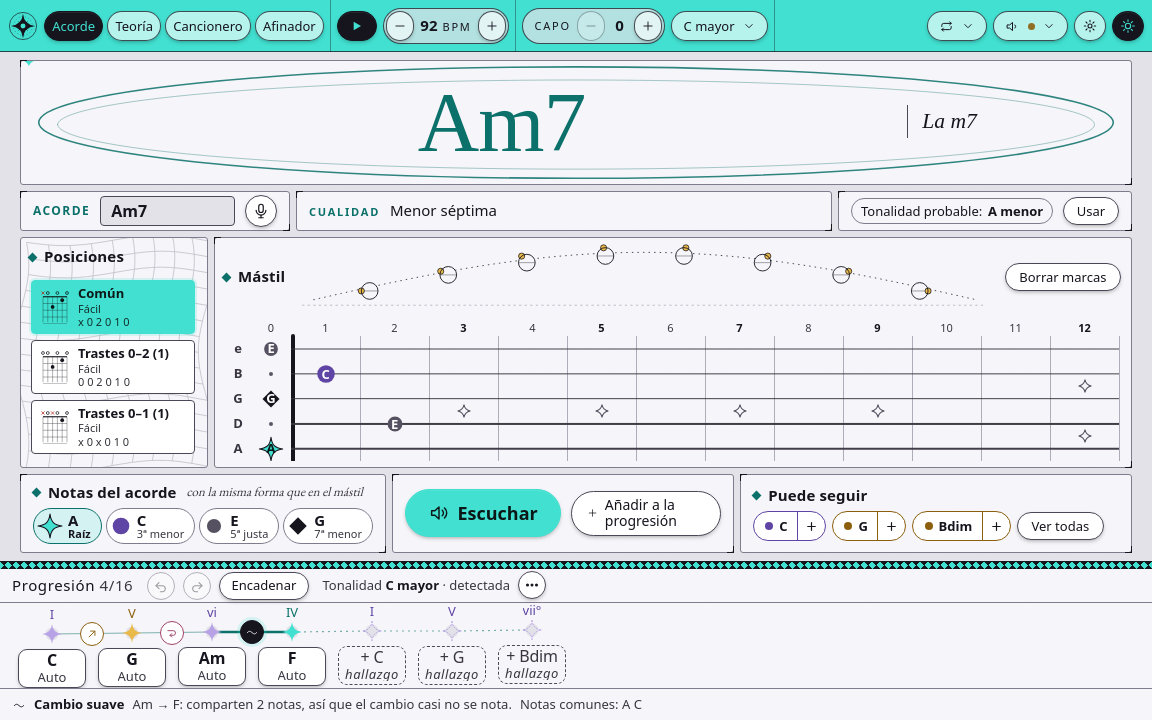
Scenario: undo and redo › walks back and forth through progression edits
The width and height of the screenshot is (1152, 720).
expect the button named "Deshacer" is disabled: met, box [147, 572, 175, 600]
Click the button "IV F Auto" at (292, 647), box [258, 605, 326, 688]
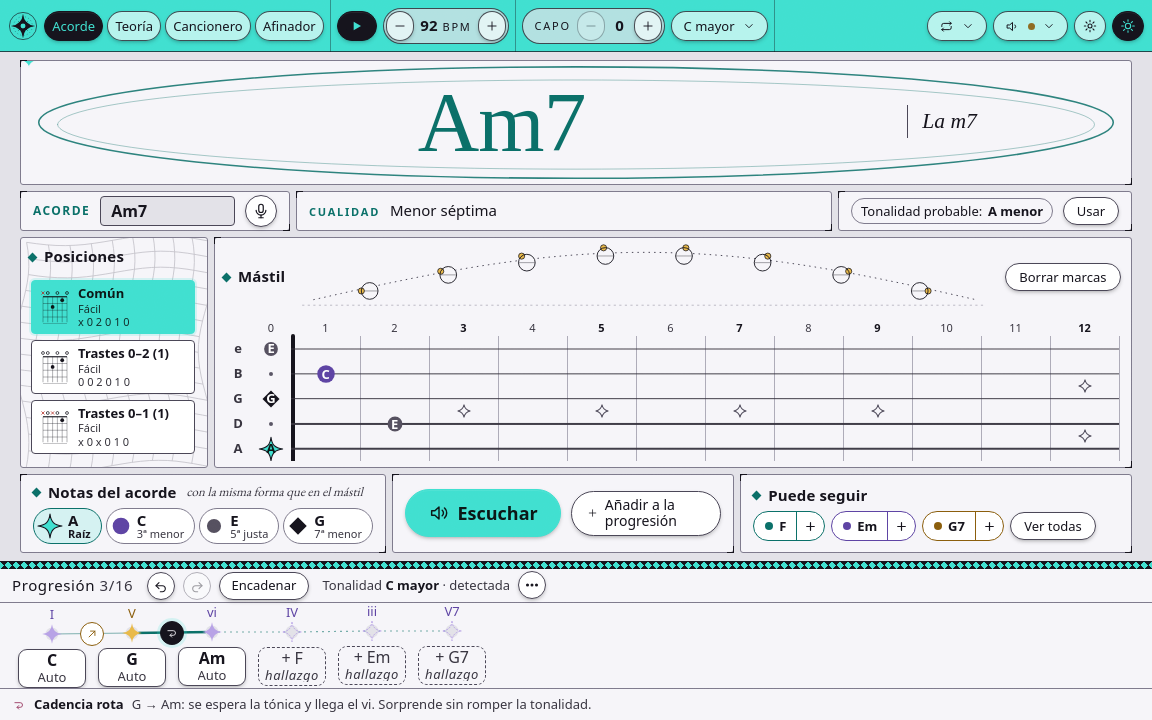
Click the button "I C Auto" at (52, 648), box [18, 607, 86, 688]
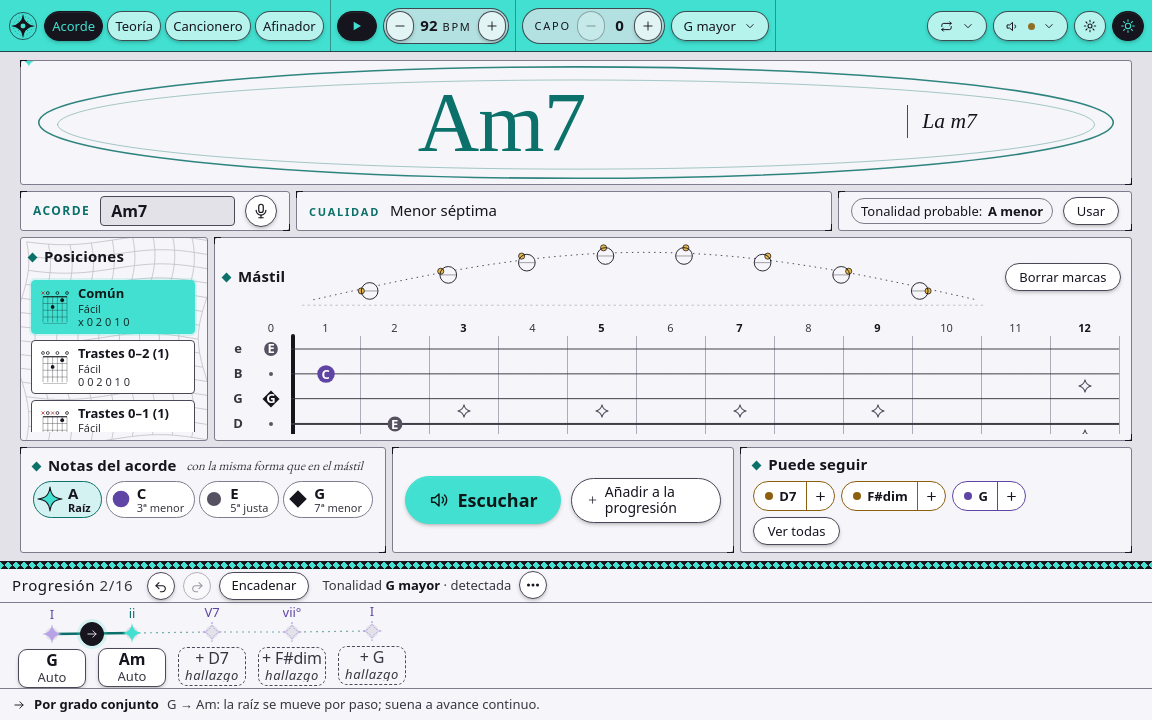
Click the button named "Deshacer" at (161, 586), box [147, 572, 175, 600]
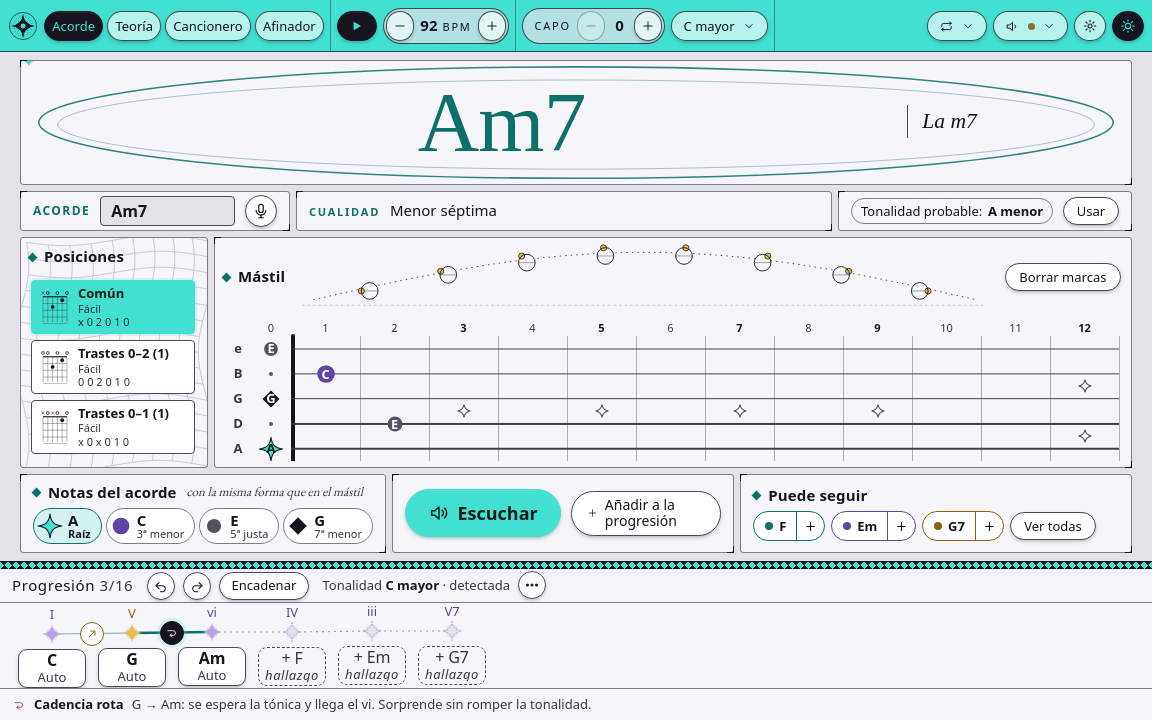
Press z
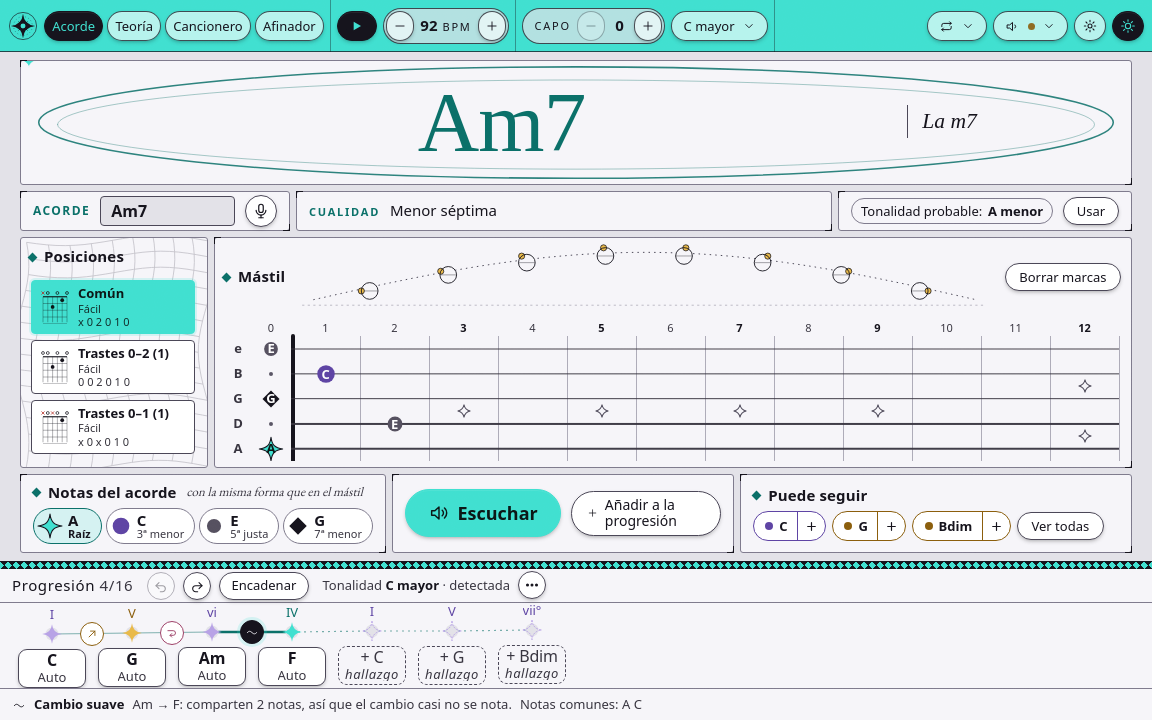
Press z
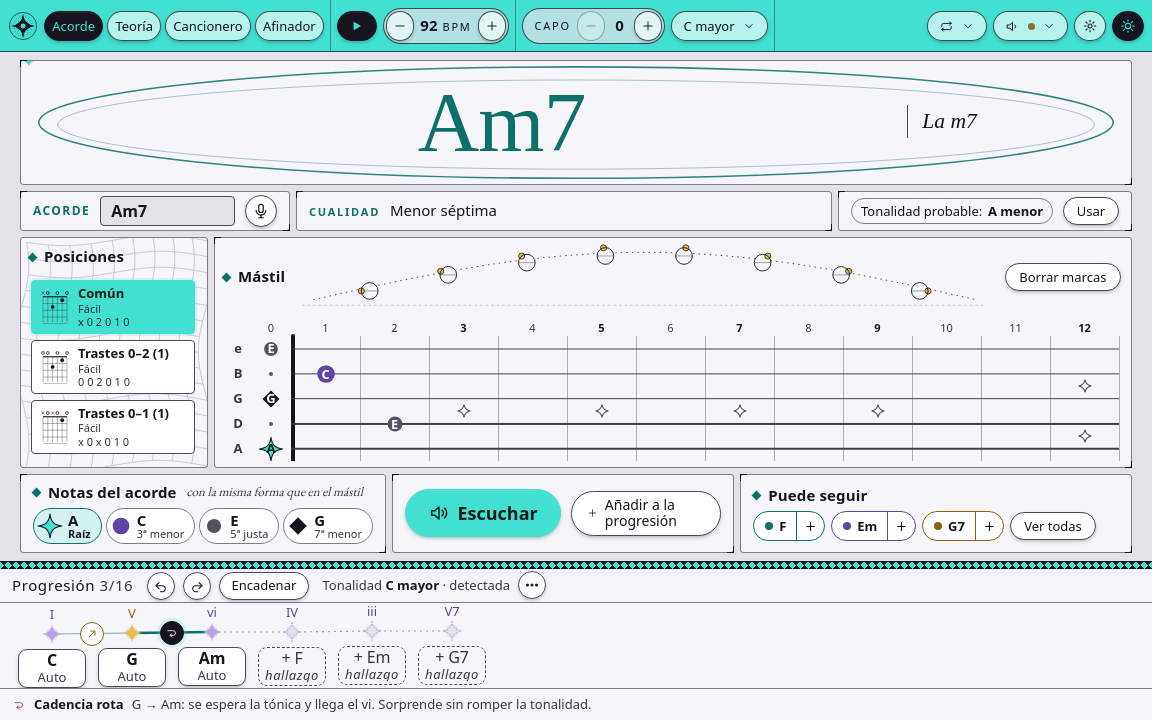
Press y
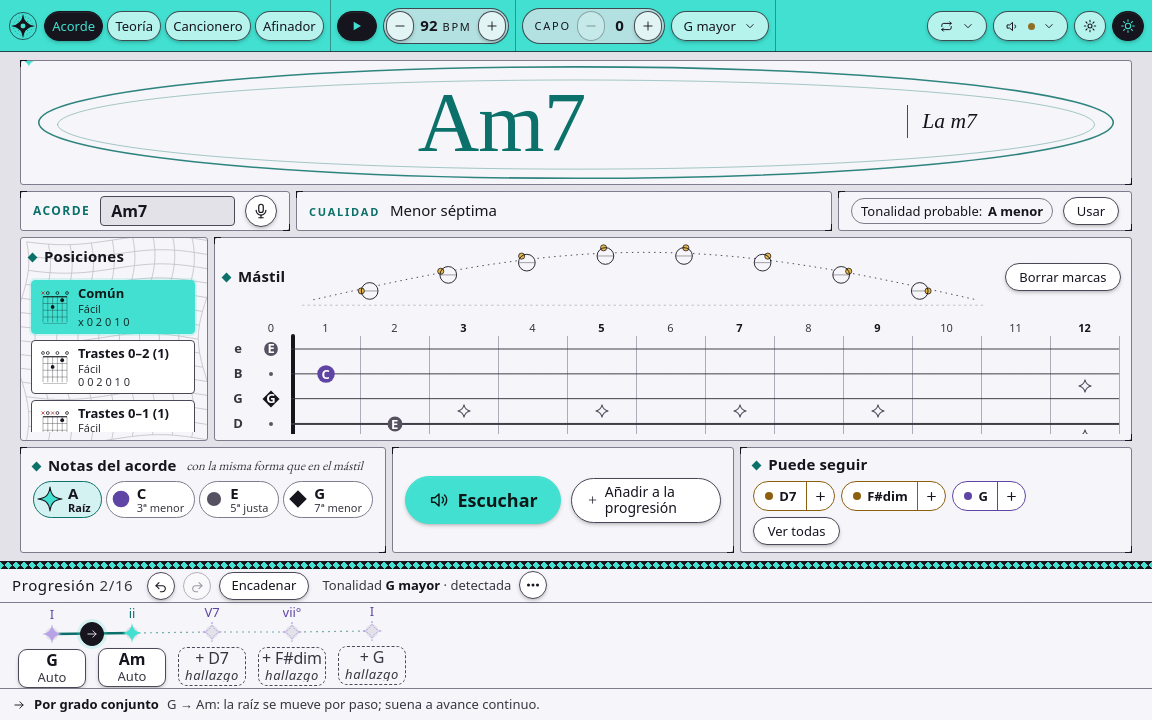
expect the button named "Rehacer" is disabled: met, box [183, 572, 211, 600]
